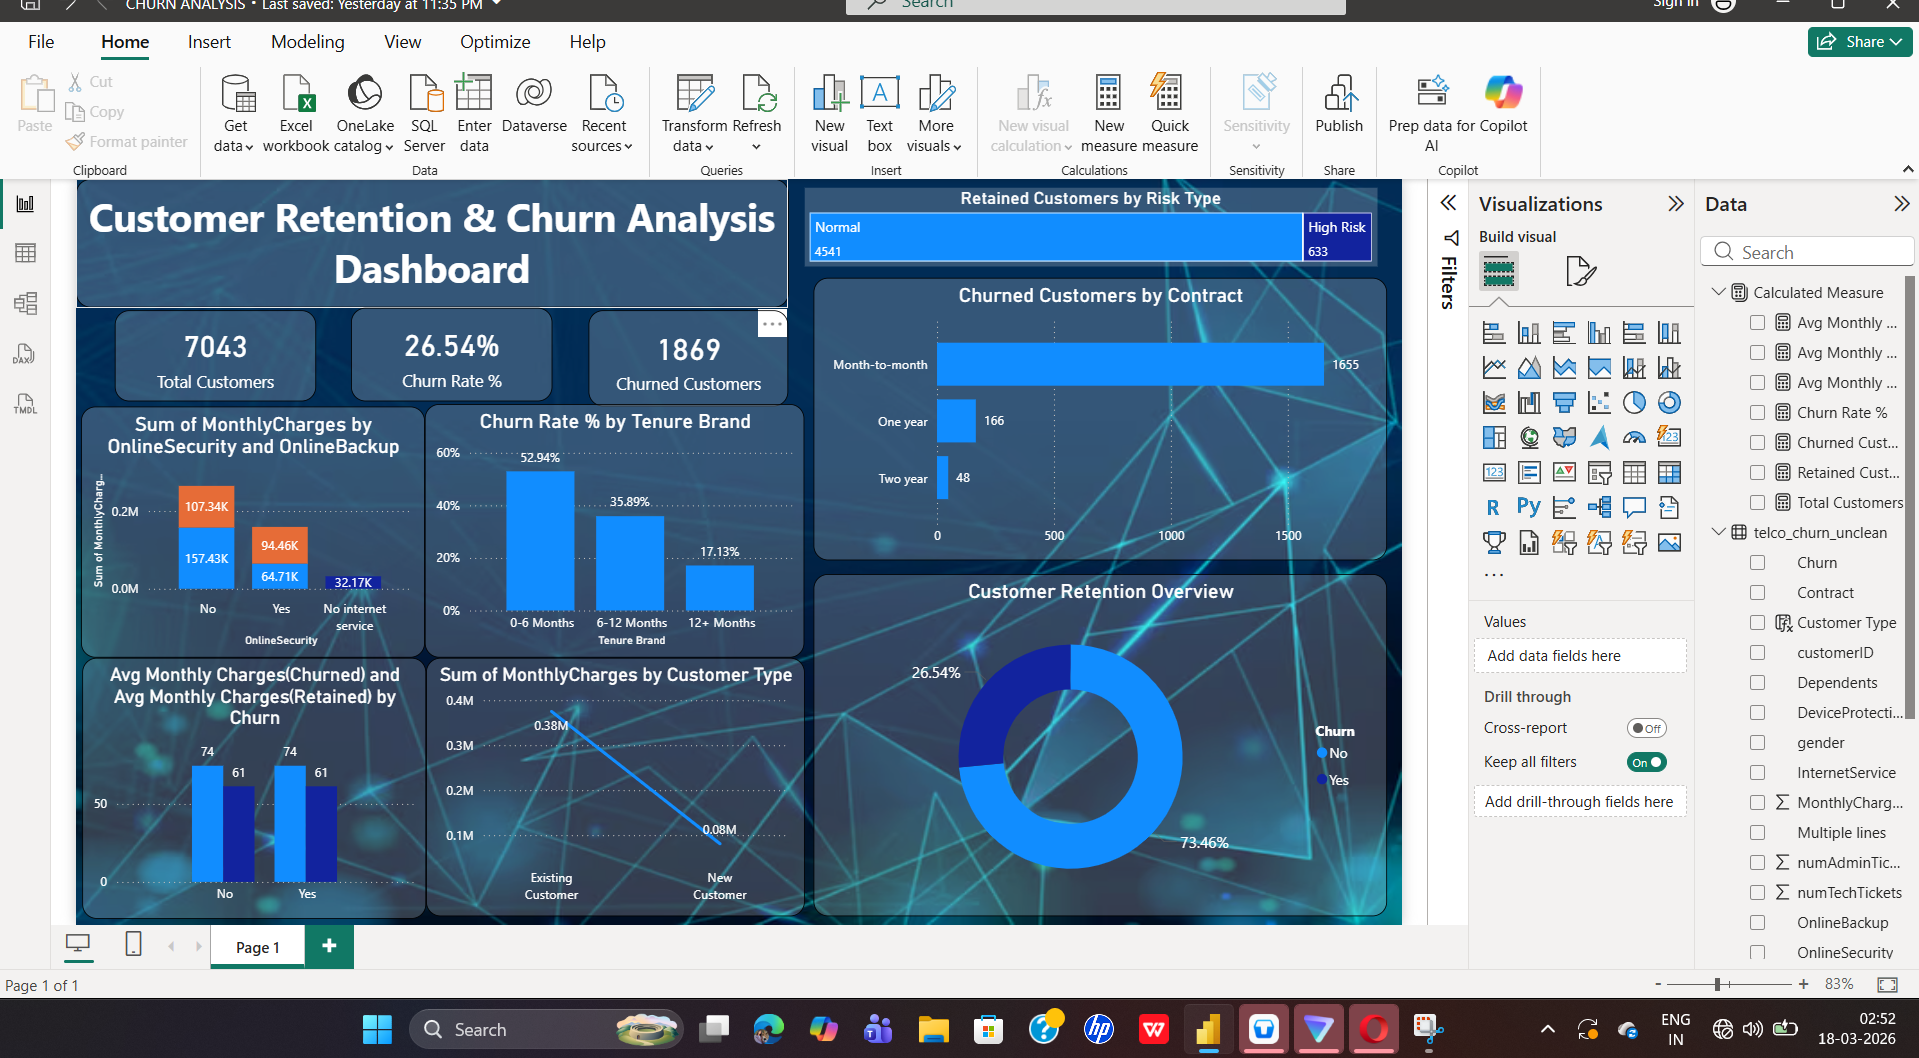

The page's visual inventory and layout, read from the dashboard file:
{"tool":"powerbi","page":{"name":"Page 1","canvas":[1280,720],"ordinal":0},"visuals":[{"type":"textbox","box":[0,0,687.7,124.3],"z":0},{"type":"treemap","fields":{"Values":["Calculated Measure.Retained Customers"],"Group":["telco_churn_unclean.Risk Type"]},"box":[703.8,8.8,552.5,76.2],"z":1000},{"type":"card","fields":{"Values":["Calculated Measure.Total Customers"]},"box":[37.4,126.7,194.2,88.1],"z":2000},{"type":"card","fields":{"Values":["Calculated Measure.Churn Rate %"]},"box":[265.4,124.3,194.2,90.5],"z":3000},{"type":"donutChart","title":"Customer Retention Overview","fields":{"Category":["telco_churn_unclean.Churn"],"Y":["Calculated Measure.Total Customers"]},"box":[711.8,381.2,553.8,330.6],"z":4000},{"type":"barChart","fields":{"Category":["telco_churn_unclean.Contract"],"Y":["Calculated Measure.Churned Customers"]},"box":[711.8,95.3,553.8,272.7],"z":5000},{"type":"columnChart","fields":{"Category":["telco_churn_unclean.OnlineSecurity"],"Y":["Sum(telco_churn_unclean.MonthlyCharges)"],"Series":["telco_churn_unclean.OnlineBackup"]},"box":[4.8,219.6,331.8,242.5],"z":6000},{"type":"card","fields":{"Values":["Calculated Measure.Churned Customers"]},"box":[494.6,126.7,193,92.9],"z":7000},{"type":"columnChart","fields":{"Y":["Calculated Measure.Churn Rate %"],"Category":["telco_churn_unclean.Tenure Brand"]},"box":[336.6,217.2,366.8,244.9],"z":8000},{"type":"clusteredColumnChart","fields":{"Y":["Calculated Measure.Avg Monthly Charges(Churned)","Calculated Measure.Avg Monthly Charges(Retained)"],"Category":["telco_churn_unclean.Churn"]},"box":[6,462.1,331.8,252.1],"z":9000},{"type":"lineChart","fields":{"Category":["telco_churn_unclean.Customer Type"],"Y":["Sum(telco_churn_unclean.MonthlyCharges)"]},"box":[337.8,462.1,365.6,249.7],"z":10000}]}

Visuals, with their boxes on the page's 1280x720 design canvas (x1, y1, x2, y2). These are canvas units, not pixel positions in the 1919x1058 screenshot, which may show the page scaled, cropped or inside an application window:
textbox: l=0, t=0, r=688, b=124
treemap - Calculated Measure.Retained Customers x telco_churn_unclean.Risk Type: l=704, t=9, r=1256, b=85
card - Calculated Measure.Total Customers: l=37, t=127, r=232, b=215
card - Calculated Measure.Churn Rate %: l=265, t=124, r=460, b=215
"Customer Retention Overview" donutChart: l=712, t=381, r=1266, b=712
barChart - telco_churn_unclean.Contract x Calculated Measure.Churned Customers: l=712, t=95, r=1266, b=368
columnChart - telco_churn_unclean.OnlineSecurity x Sum(telco_churn_unclean.MonthlyCharges): l=5, t=220, r=337, b=462
card - Calculated Measure.Churned Customers: l=495, t=127, r=688, b=220
columnChart - Calculated Measure.Churn Rate % x telco_churn_unclean.Tenure Brand: l=337, t=217, r=703, b=462
clusteredColumnChart - Calculated Measure.Avg Monthly Charges(Churned) x Calculated Measure.Avg Monthly Charges(Retained): l=6, t=462, r=338, b=714
lineChart - telco_churn_unclean.Customer Type x Sum(telco_churn_unclean.MonthlyCharges): l=338, t=462, r=703, b=712
